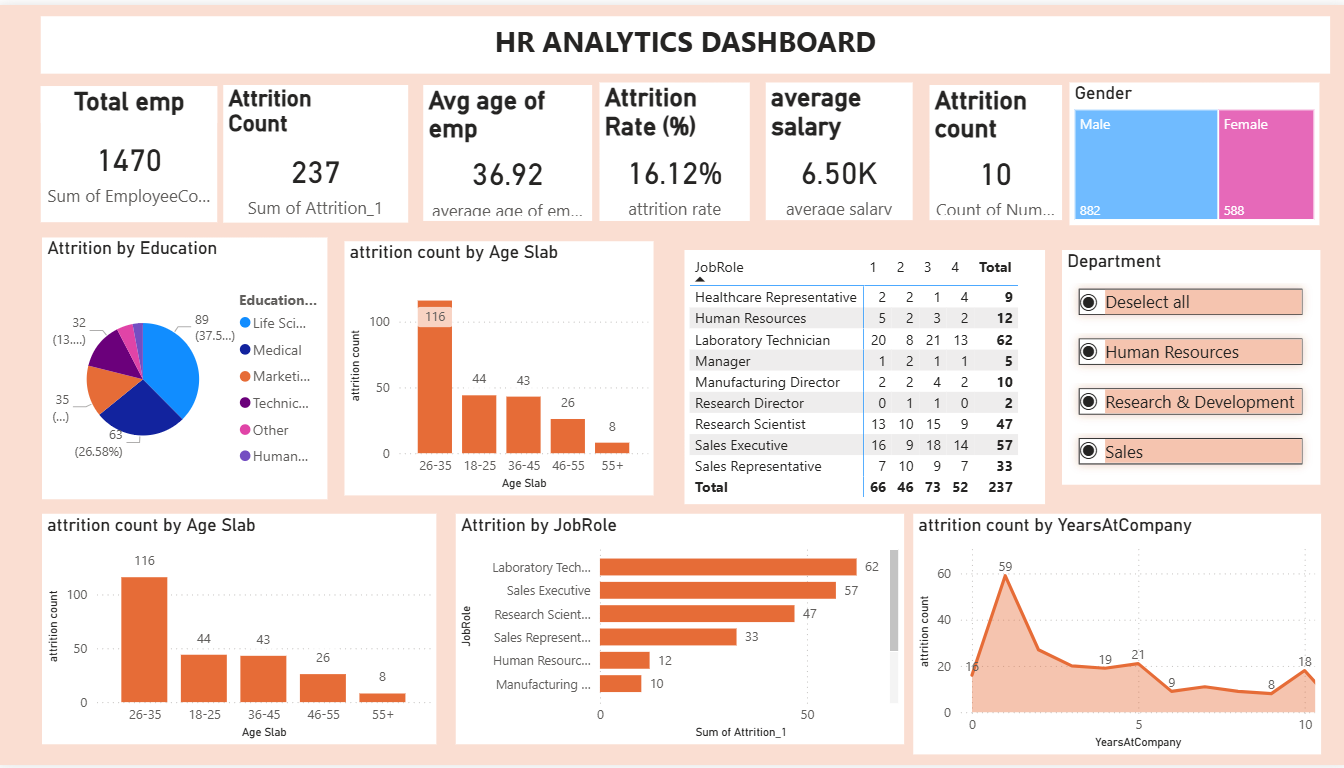

The page's visual inventory and layout, read from the dashboard file:
{"tool":"powerbi","page":{"name":"overview","canvas":[1280,720],"ordinal":0},"visuals":[{"type":"card","title":"Total emp","fields":{"Values":["Sum(HR-Employee-Attrition.EmployeeCount)"]},"box":[41,77,167.6,129.1],"z":0},{"type":"card","title":"Attrition Count","fields":{"Values":["Sum(HR-Employee-Attrition.Attrition_1)"]},"box":[214.7,75.7,175,130.3],"z":1000},{"type":"card","title":"Attrition Rate (%)","fields":{"Values":["HR-Employee-Attrition.attrition rate"]},"box":[571,73.2,142.7,131.6],"z":2000},{"type":"card","title":"average salary","fields":{"Values":["HR-Employee-Attrition.average salary"]},"box":[728.6,73.2,139,130.3],"z":3000},{"type":"listSlicer","fields":{"Values":["HR-Employee-Attrition.Department"]},"box":[1009.2,232.1,244.5,222.2],"z":4000},{"type":"pivotTable","fields":{"Values":["Sum(HR-Employee-Attrition.Attrition_1)"],"Rows":["HR-Employee-Attrition.JobRole"],"Columns":["HR-Employee-Attrition.JobSatisfaction"]},"box":[651.7,232.1,341.4,240.8],"z":5000},{"type":"pieChart","title":"Attrition by Education","fields":{"Category":["HR-Employee-Attrition.EducationField"],"Y":["Sum(HR-Employee-Attrition.Attrition_1)"]},"box":[42.2,219.7,270.6,248.3],"z":6000},{"type":"lineClusteredColumnComboChart","fields":{"Category":["HR-Employee-Attrition.Age Slab"],"Y":["HR-Employee-Attrition.attrition count"]},"box":[328.9,223.4,292.9,240.8],"z":7000},{"type":"clusteredBarChart","title":"Attrition by JobRole","fields":{"Y":["Sum(HR-Employee-Attrition.Attrition_1)"],"Category":["HR-Employee-Attrition.JobRole"]},"box":[434.5,481.6,424.5,218.5],"z":8000},{"type":"lineClusteredColumnComboChart","fields":{"Y":["HR-Employee-Attrition.attrition count"],"Category":["HR-Employee-Attrition.Age Slab"]},"box":[42.2,481.6,373.6,218.5],"z":9000},{"type":"areaChart","fields":{"Category":["HR-Employee-Attrition.YearsAtCompany"],"Y":["HR-Employee-Attrition.attrition count"]},"box":[868,482,386,228],"z":10000},{"type":"card","title":"Avg age of emp","fields":{"Values":["HR-Employee-Attrition.average age of employees"]},"box":[403.4,75.7,160.1,129.1],"z":11000},{"type":"card","title":"Attrition count","fields":{"Values":["Count(HR-Employee-Attrition.NumCompaniesWorked)"]},"box":[883.8,75.7,125.4,127.9],"z":12000},{"type":"textbox","box":[41,11.2,1221.4,54.6],"z":13000},{"type":"treemap","title":"Gender","fields":{"Group":["HR-Employee-Attrition.Gender"],"Values":["CountNonNull(HR-Employee-Attrition.Gender)"]},"box":[1016.6,73.2,237.1,135.3],"z":14000}]}

Visuals, with their boxes in screenshot pixels (x1, y1, x2, y2), scaled from the page's 1280x720 canvas onto the 1344x768 screenshot:
"Total emp" card: 43:82:219:220
"Attrition Count" card: 225:81:409:220
"Attrition Rate (%)" card: 600:78:749:218
"average salary" card: 765:78:911:217
listSlicer - HR-Employee-Attrition.Department: 1060:248:1316:485
pivotTable - Sum(HR-Employee-Attrition.Attrition_1) x HR-Employee-Attrition.JobRole: 684:248:1043:504
"Attrition by Education" pieChart: 44:234:328:499
lineClusteredColumnComboChart - HR-Employee-Attrition.Age Slab x HR-Employee-Attrition.attrition count: 345:238:653:495
"Attrition by JobRole" clusteredBarChart: 456:514:902:747
lineClusteredColumnComboChart - HR-Employee-Attrition.attrition count x HR-Employee-Attrition.Age Slab: 44:514:437:747
areaChart - HR-Employee-Attrition.YearsAtCompany x HR-Employee-Attrition.attrition count: 911:514:1317:757
"Avg age of emp" card: 424:81:592:218
"Attrition count" card: 928:81:1060:217
textbox: 43:12:1326:70
"Gender" treemap: 1067:78:1316:222
